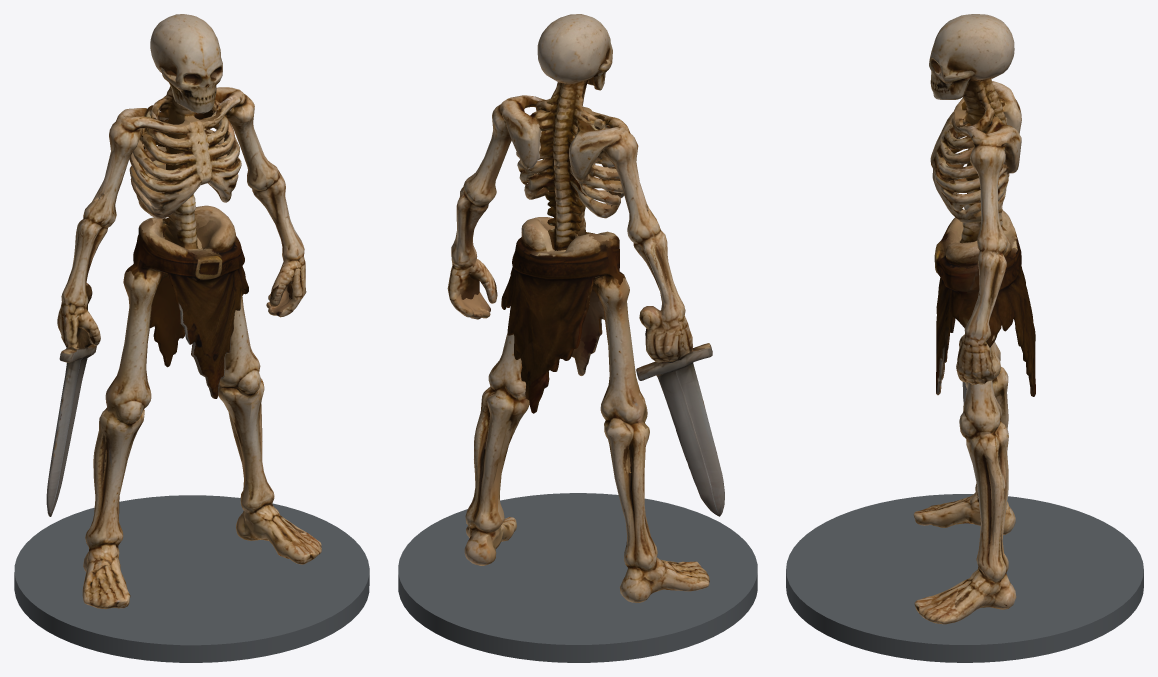
The model's file is skeleton-hybrid-0df09092cecb.glb.
The picture shows the model from 3 angles, left to right: view 1: azimuth 30°, elevation 25°; view 2: azimuth 150°, elevation 25°; view 3: azimuth 270°, elevation 25°; orthographic projection.
Parts seen in each view (by area): view 1: textured.obj, uploaded_round_base; view 2: textured.obj, uploaded_round_base; view 3: uploaded_round_base, textured.obj.
Part boxes in pixels (bbox=[...]): textured.obj: bbox=[46, 14, 321, 609]; uploaded_round_base: bbox=[14, 495, 369, 662]; textured.obj: bbox=[447, 14, 724, 602]; uploaded_round_base: bbox=[398, 493, 757, 662]; uploaded_round_base: bbox=[786, 494, 1143, 662]; textured.obj: bbox=[913, 14, 1035, 624].
Size of the model in its own units: 1 by 1.76 by 1.
Materials: 2 (1 with a texture image).
